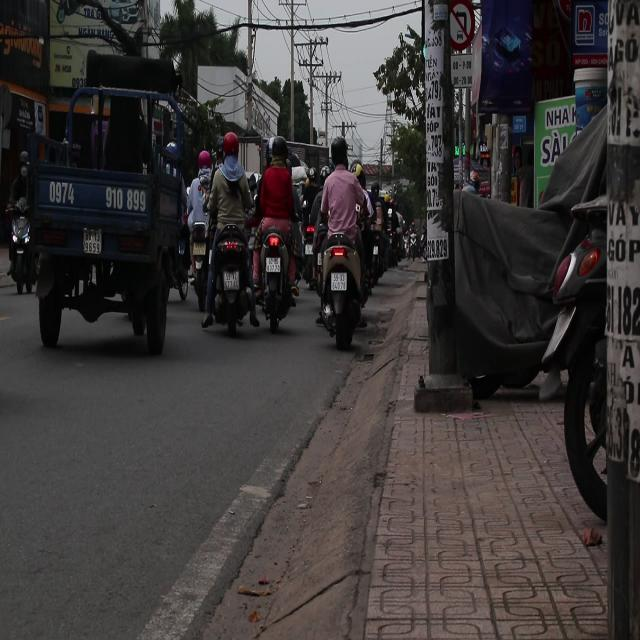motorbike: (312, 226, 366, 351), (205, 223, 258, 337), (254, 219, 301, 336), (7, 203, 34, 295), (188, 220, 212, 311)
truck: (16, 65, 192, 352)
